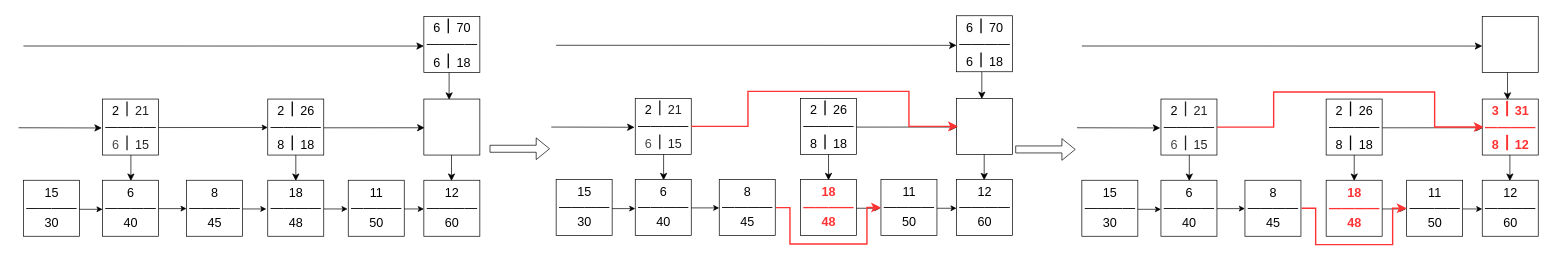
Some shapes in this 1558 by 264 pixel diagram are drawn without their labels. Each missing label, with the centre of its shape:
2 丨 23 ———— 11 丨 12: the point at 451,126
4 丨 49 ———— 8 丨 18: the point at 984,126
5 丨 52 ———— 6 丨 15: the point at 1510,44
